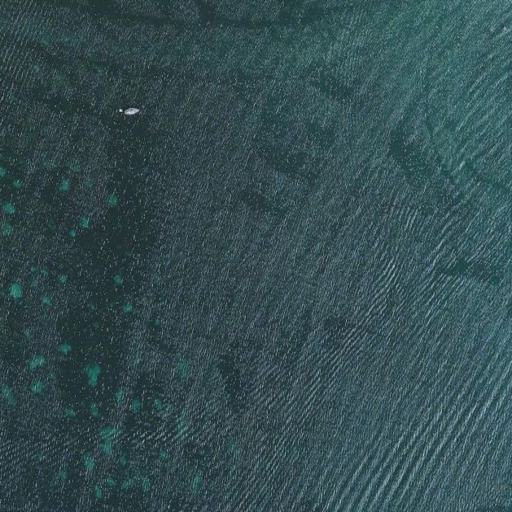ship: (121, 105, 139, 117)
